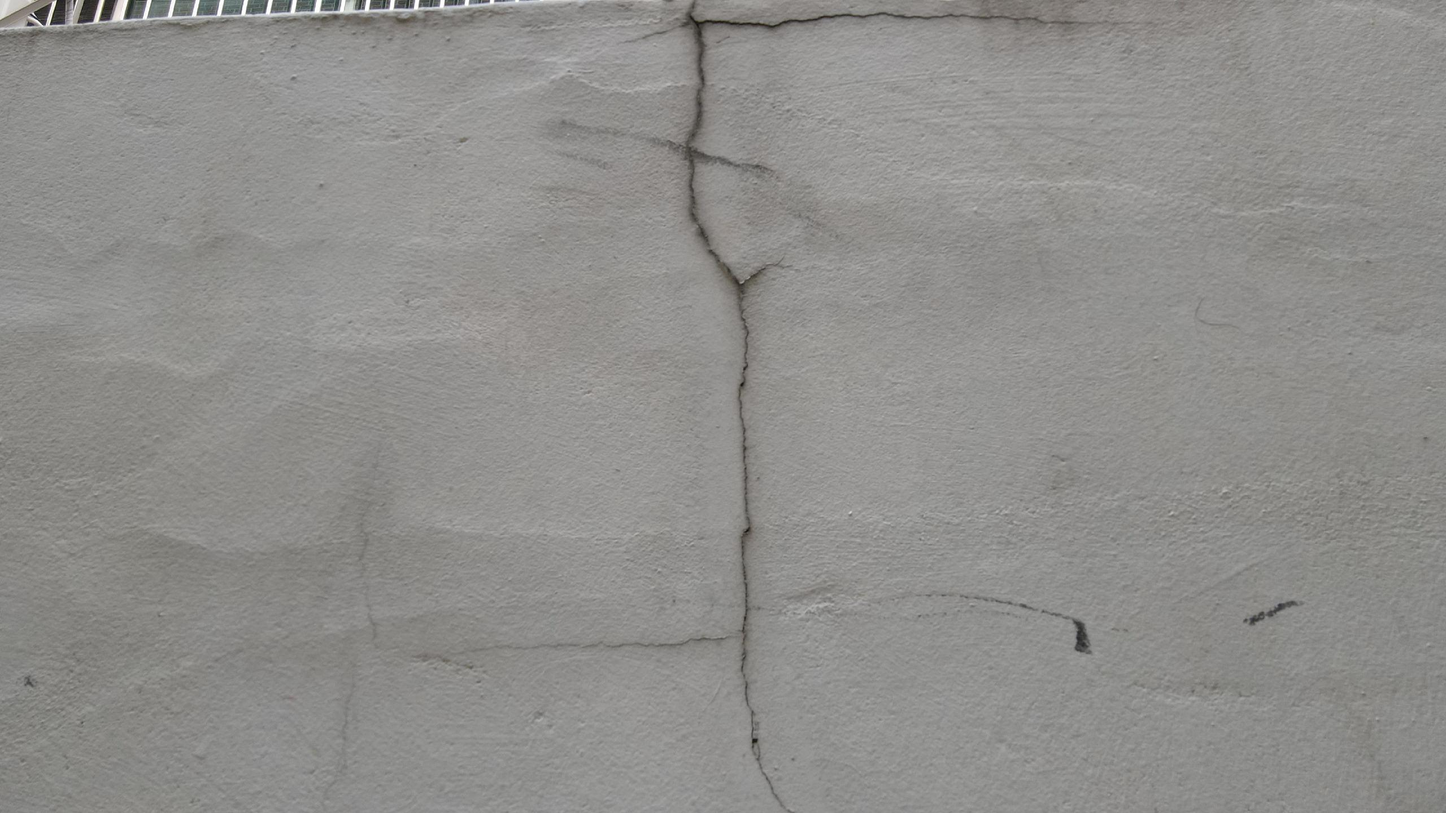crack: (679, 2, 1095, 806)
